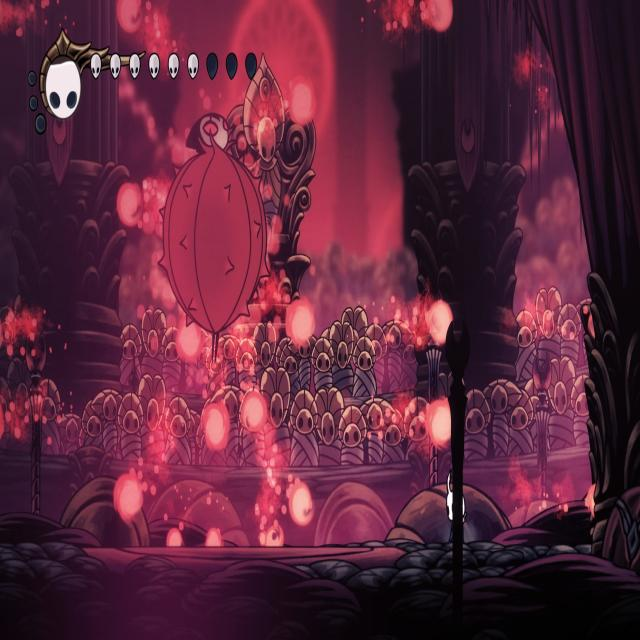Player: (441, 470, 472, 542)
Pufferfish: (154, 104, 271, 363)
Tiny Fireballs: (286, 298, 315, 348), (113, 473, 142, 522), (425, 398, 452, 448), (203, 403, 230, 450), (115, 182, 142, 228), (292, 79, 317, 128), (176, 318, 202, 364), (429, 301, 454, 346), (291, 479, 314, 526), (242, 390, 266, 431), (424, 0, 454, 31), (115, 0, 142, 33), (168, 528, 183, 548), (207, 528, 222, 547)
